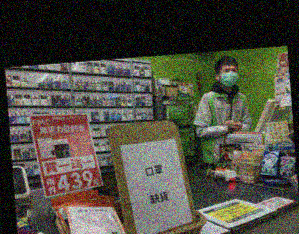with_mask: (219, 66, 238, 87)
